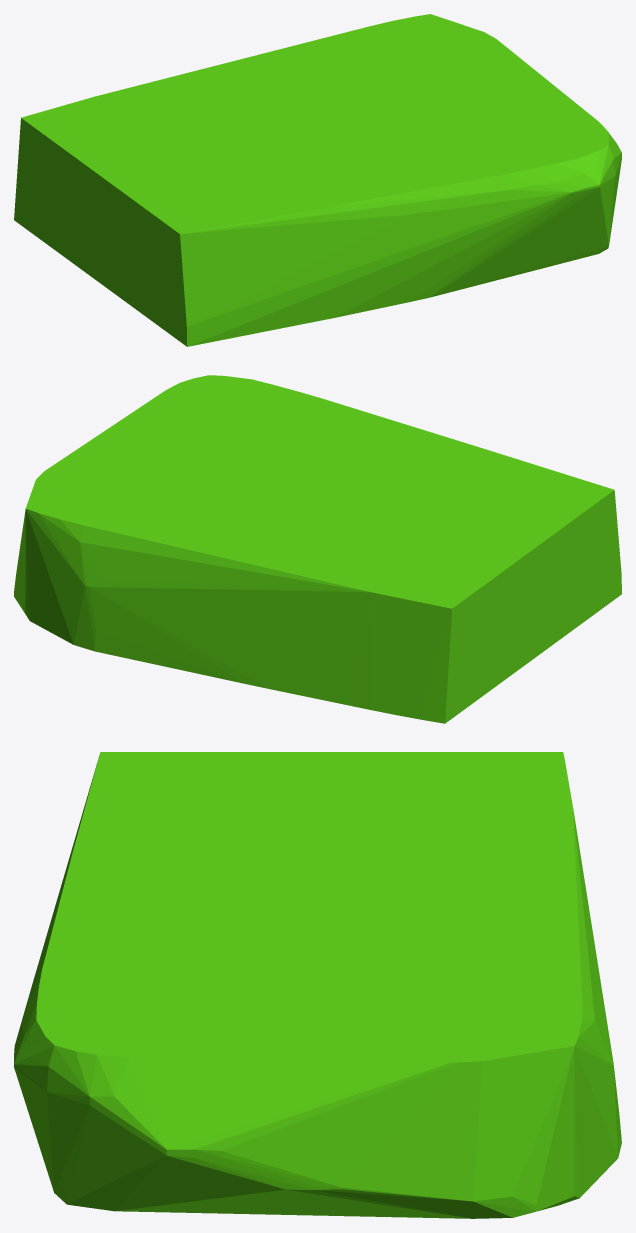
3 views of the same model, one above another, from view 1: azimuth 30°, elevation 25°; view 2: azimuth 150°, elevation 25°; view 3: azimuth 270°, elevation 25° (orthographic). The views are drawn at different scales.
Size of the model in its own units: 0.0583 by 0.013 by 0.0457.
